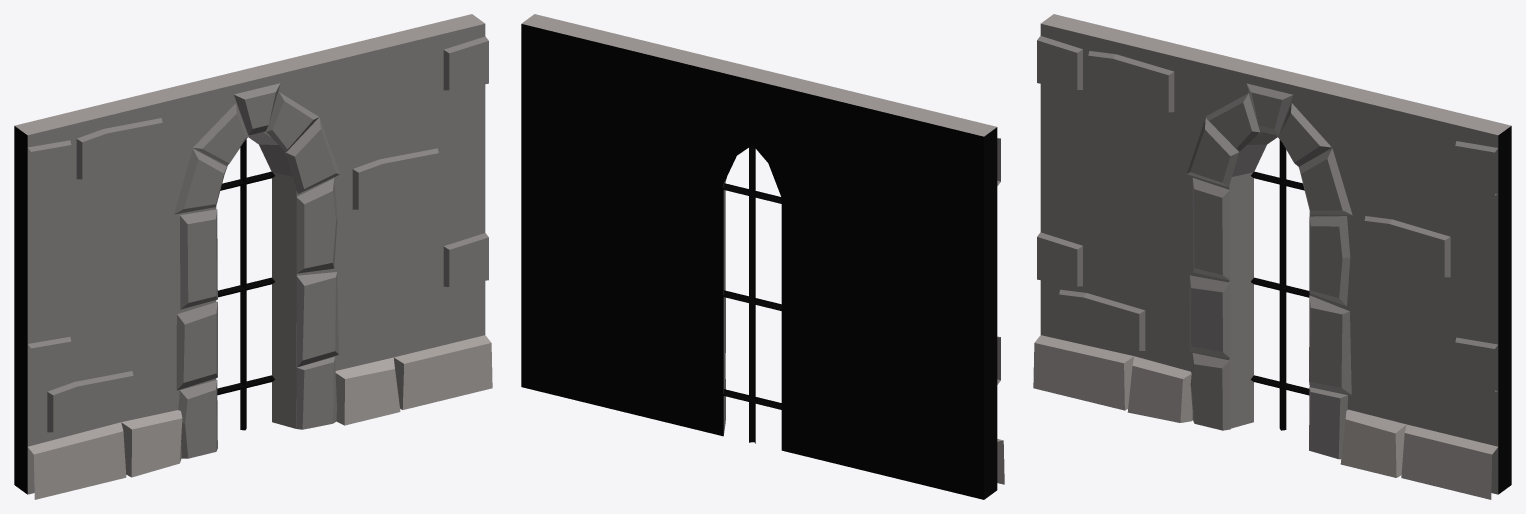
File: dungeon-wall-window-end-stone.glb
3 views of the same model, side by side, from view 1: azimuth 30°, elevation 25°; view 2: azimuth 150°, elevation 25°; view 3: azimuth 330°, elevation 25° (orthographic).
Visible parts, largest first — view 1: dungeon-wall-window-end-stone; view 2: dungeon-wall-window-end-stone; view 3: dungeon-wall-window-end-stone.
Part boxes in pixels (<box>): dungeon-wall-window-end-stone: <box>14,14,492,499</box>; dungeon-wall-window-end-stone: <box>521,14,1004,499</box>; dungeon-wall-window-end-stone: <box>1033,14,1511,499</box>.
Size of the model in its own units: 4 by 3.01 by 0.3283.
1 material, 1 textured.
